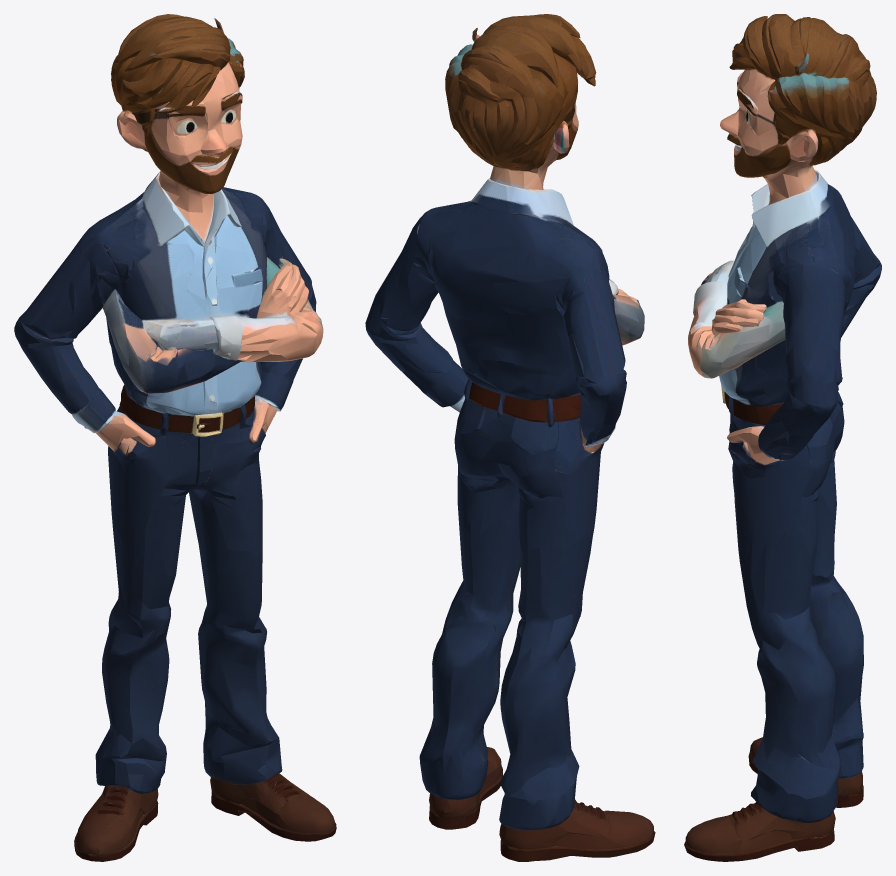
Rendered from npc-cognizant-softvision.glb.
3 views of the same model, side by side, from view 1: azimuth 30°, elevation 25°; view 2: azimuth 150°, elevation 25°; view 3: azimuth 270°, elevation 25° (orthographic). The views are drawn at different scales.
Size of the model in its own units: 0.6784 by 1.9 by 0.4333.
1 material, 1 textured.
